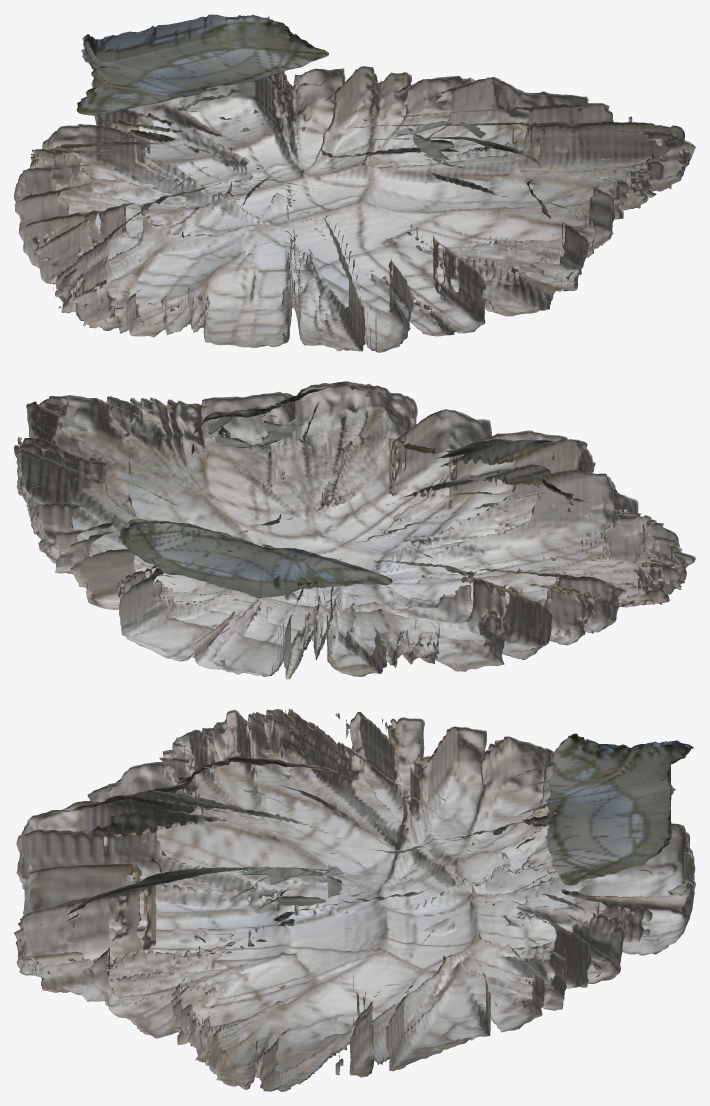
Rendered from world-1769981287196.glb.
The picture shows the model from 3 angles, top to bottom: view 1: azimuth 30°, elevation 25°; view 2: azimuth 150°, elevation 25°; view 3: azimuth 270°, elevation 25°; orthographic projection. The views are drawn at different scales.
Visible parts, largest first — view 1: world; view 2: world; view 3: world.
Part boxes in pixels (x1=…): world: x1=14, y1=14, x2=695, y2=352; world: x1=14, y1=381, x2=695, y2=679; world: x1=14, y1=709, x2=695, y2=1091.
Size of the model in its own units: 22.15 by 4.24 by 17.76.
